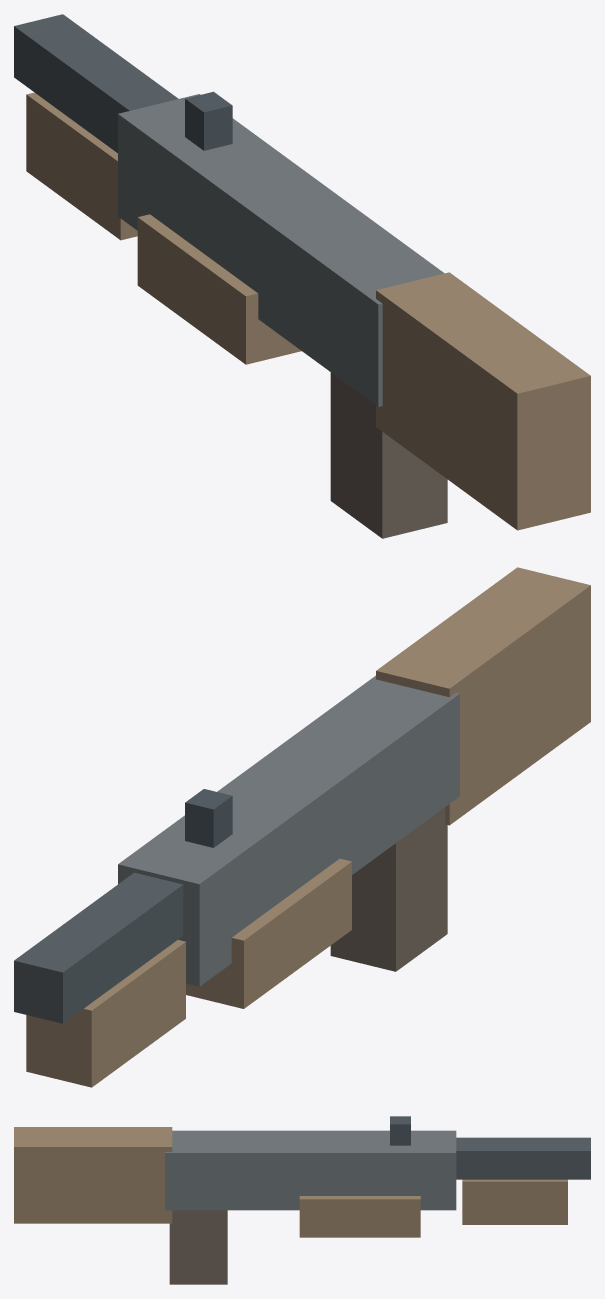
Rendered from shotgun.glb.
3 renders of one model, top to bottom at view 1: azimuth 30°, elevation 25°; view 2: azimuth 150°, elevation 25°; view 3: azimuth 270°, elevation 25°, orthographic. The views are drawn at different scales.
Parts seen in each view (by area): view 1: receiver, stock, grip, barrel, handguard, pump, sight; view 2: receiver, stock, barrel, pump, grip, handguard, sight; view 3: receiver, stock, barrel, handguard, pump, grip, sight.
Part boxes in pixels (left/top/right/bottom): receiver: left=118, top=94, right=444, bottom=406; stock: left=376, top=272, right=590, bottom=530; grip: left=330, top=372, right=447, bottom=538; barrel: left=14, top=14, right=178, bottom=152; handguard: left=137, top=214, right=301, bottom=364; pump: left=26, top=92, right=137, bottom=240; sight: left=185, top=91, right=232, bottom=150; receiver: left=118, top=675, right=459, bottom=986; stock: left=376, top=567, right=590, bottom=825; barrel: left=14, top=872, right=183, bottom=1023; pump: left=26, top=940, right=185, bottom=1087; grip: left=330, top=807, right=447, bottom=971; handguard: left=186, top=858, right=351, bottom=1008; sight: left=185, top=789, right=232, bottom=847; receiver: left=165, top=1130, right=456, bottom=1210; stock: left=14, top=1127, right=172, bottom=1223; barrel: left=456, top=1137, right=590, bottom=1179; handguard: left=299, top=1196, right=420, bottom=1237; pump: left=462, top=1179, right=567, bottom=1224; grip: left=169, top=1210, right=227, bottom=1284; sight: left=390, top=1116, right=410, bottom=1145.
Bounding box in the file's own units: 0.13 × 0.325 × 1.09.
